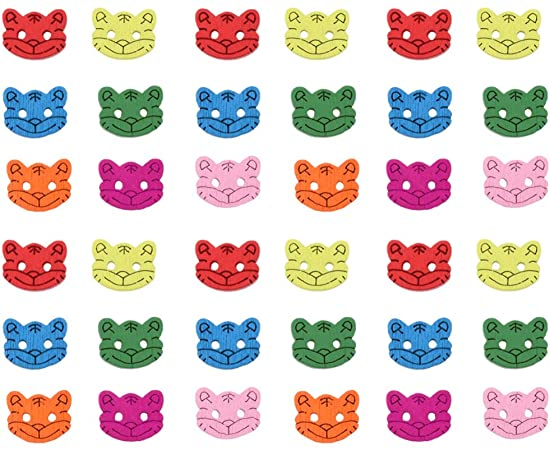Tigrew: (295, 158, 385, 229), (93, 146, 182, 217), (372, 151, 460, 219), (277, 1, 363, 70), (186, 150, 271, 218), (186, 229, 273, 295), (280, 386, 366, 450), (278, 234, 361, 299), (384, 235, 468, 299), (380, 78, 462, 140), (188, 310, 266, 375), (90, 312, 173, 373), (382, 2, 461, 66), (90, 85, 175, 144), (86, 231, 163, 295), (472, 232, 545, 299), (185, 8, 269, 66), (1, 151, 75, 216), (468, 155, 550, 213), (4, 384, 76, 449), (381, 313, 460, 372), (2, 311, 78, 372), (471, 311, 548, 371), (93, 385, 167, 447), (2, 80, 72, 144), (472, 384, 549, 442), (282, 311, 360, 368), (288, 83, 371, 136), (1, 232, 75, 291), (189, 386, 269, 440), (475, 1, 550, 57), (84, 5, 161, 58), (191, 83, 267, 136), (480, 75, 550, 130), (4, 8, 71, 64), (382, 386, 451, 440)
